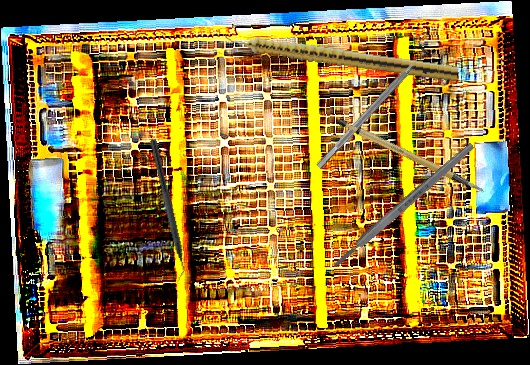Chopper: (140, 139, 192, 285)
Fixation Ring: (309, 35, 438, 176)
Handpiece: (222, 28, 460, 83)
Scalpel Handle: (330, 141, 477, 270), (335, 99, 485, 216)
